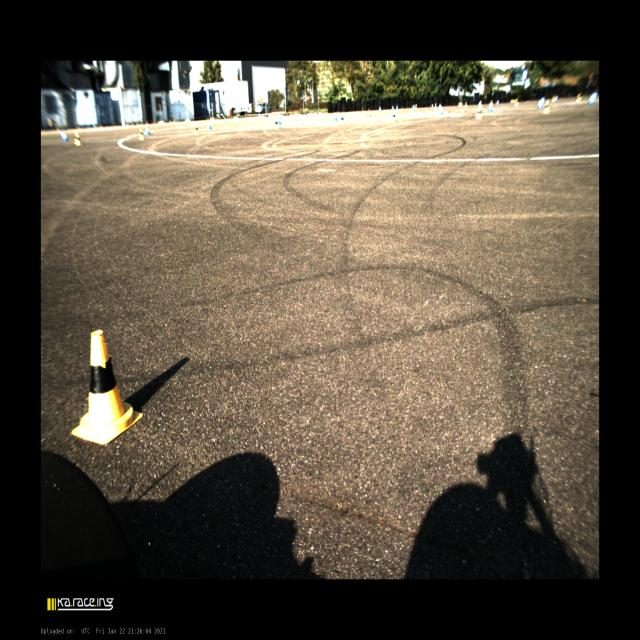blue_cone: (145, 126, 150, 136), (64, 132, 68, 142), (538, 99, 542, 109), (439, 107, 444, 115), (208, 122, 212, 130), (488, 103, 492, 111), (333, 114, 338, 120), (379, 106, 381, 112), (412, 104, 414, 110), (396, 105, 398, 110), (392, 106, 394, 110)
yellow_cone: (70, 330, 142, 444), (476, 108, 482, 120), (76, 134, 81, 146), (543, 104, 549, 114), (194, 124, 199, 135), (140, 129, 144, 140), (392, 111, 396, 121), (340, 116, 344, 124), (415, 104, 418, 110)
